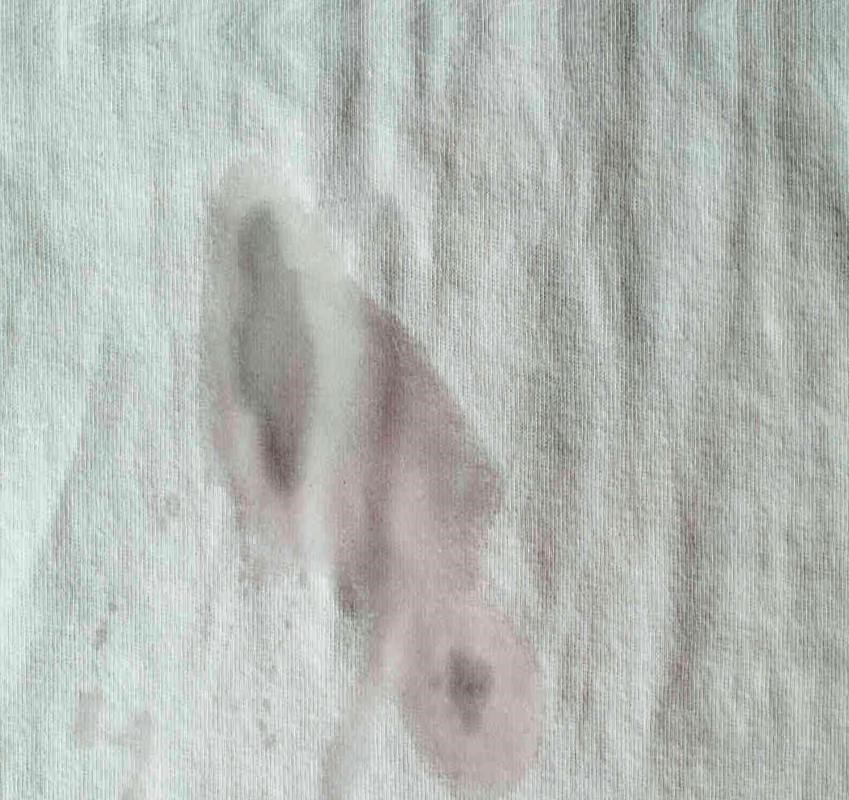stain: (182, 137, 583, 800)
